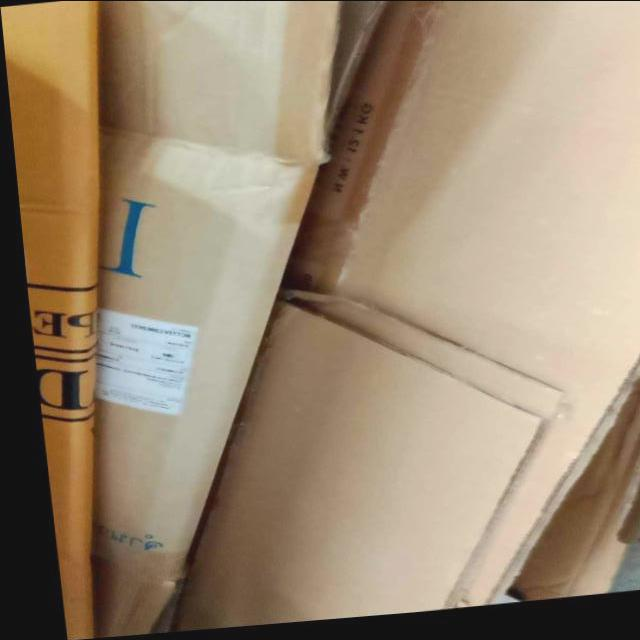General: (3, 1, 638, 636)
Infectious: (85, 1, 382, 636)
Sharps: (0, 0, 103, 638)
